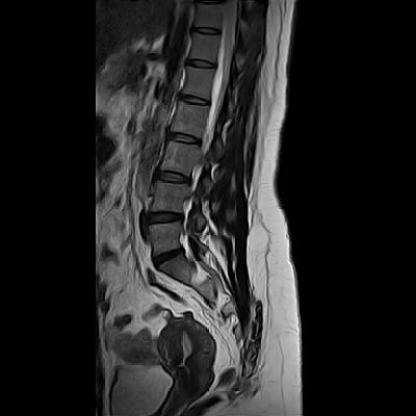Disc Bulgerotation: (145, 209, 184, 229)
Disc Protrusionrotation: (152, 248, 186, 267)
